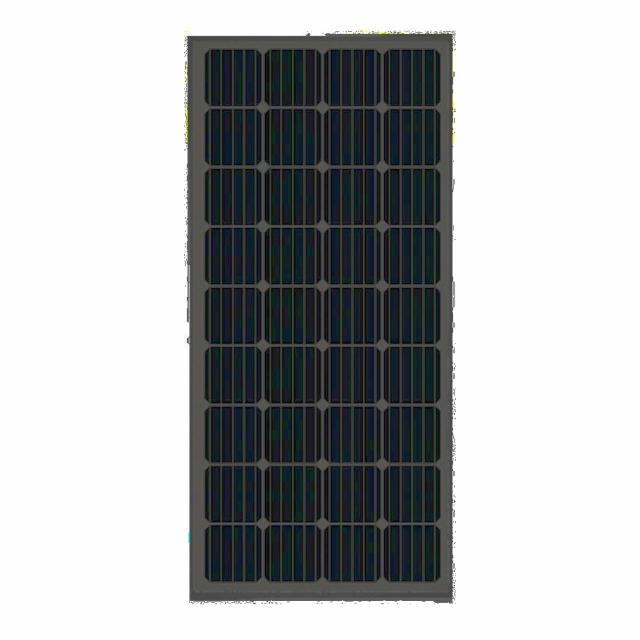no faulty: (190, 42, 450, 591)
